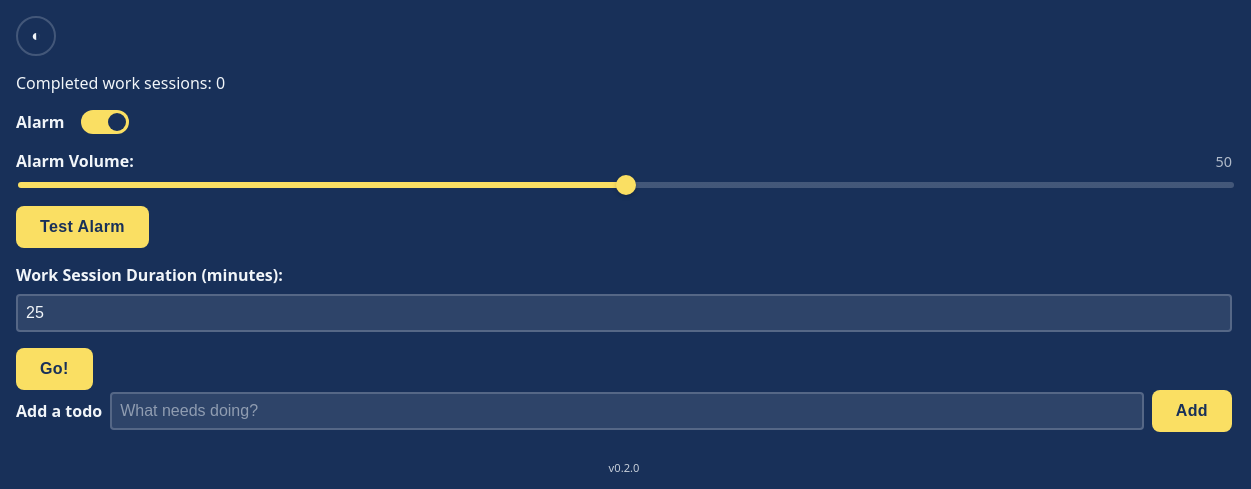
Test: App › pauses and resumes the countdown
Type "1" into the number field labelled "Work Session Duration (minutes):". click: (624,313)
box: [16,294,1232,332]
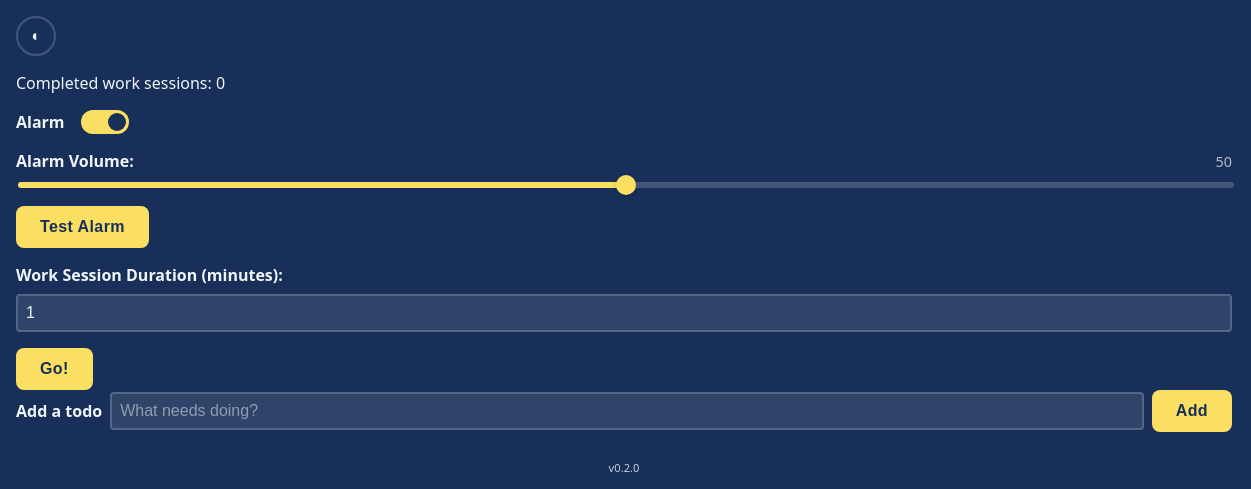
Click the button "Go!". click: (54,369)
box: [16,348,93,390]
Wait 10000 ms
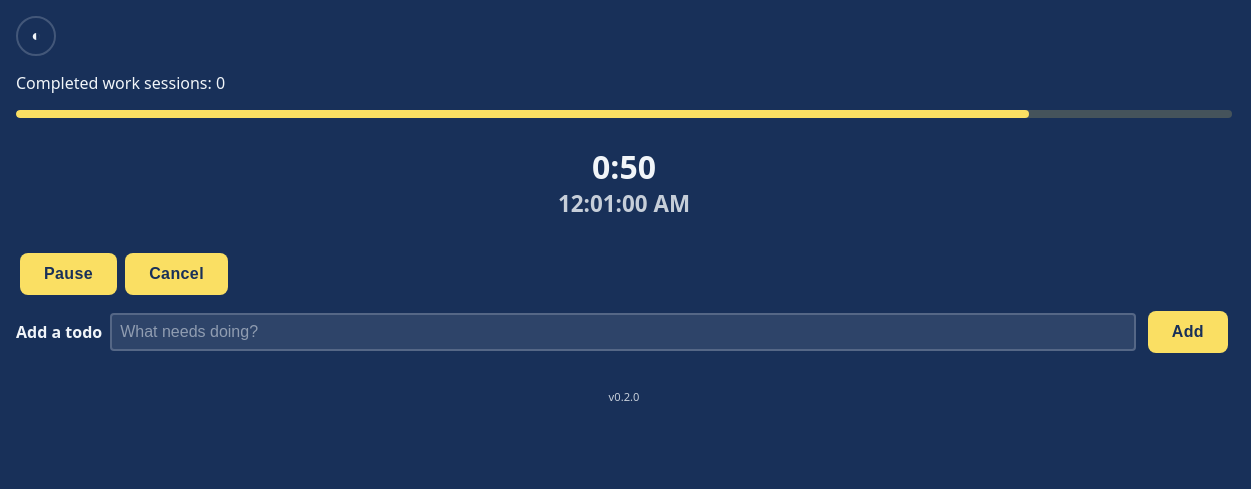
Click the button "Pause". click: (69,274)
box: [20,253,117,295]
Wait 30000 ms
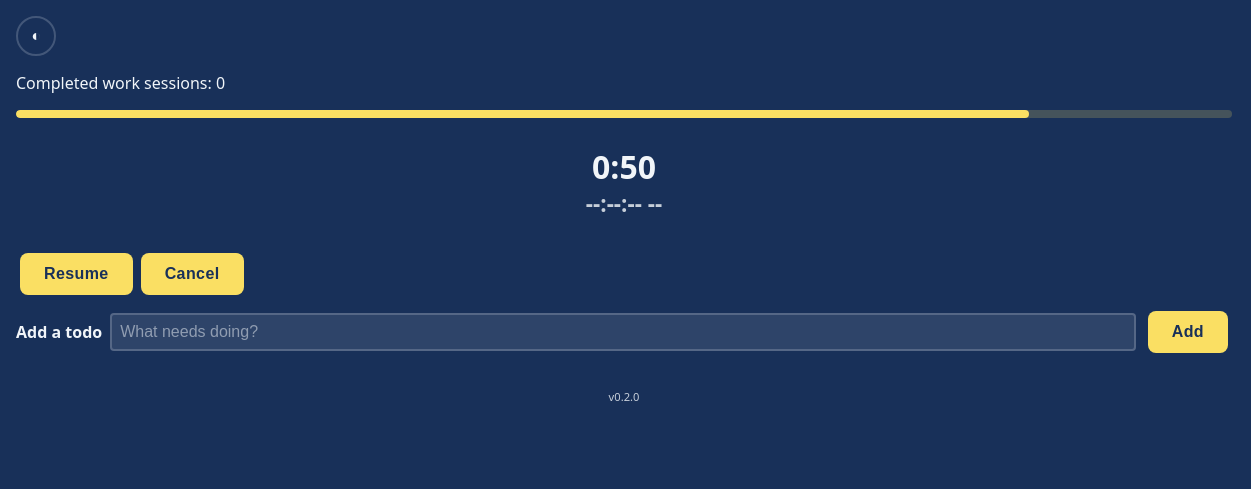
Expected: the heading "0:50 --:--:-- --" is shown, [586,144,662,218]
Click the button "Resume". click: (76,274)
box: [20,253,133,295]
Wait 10000 ms
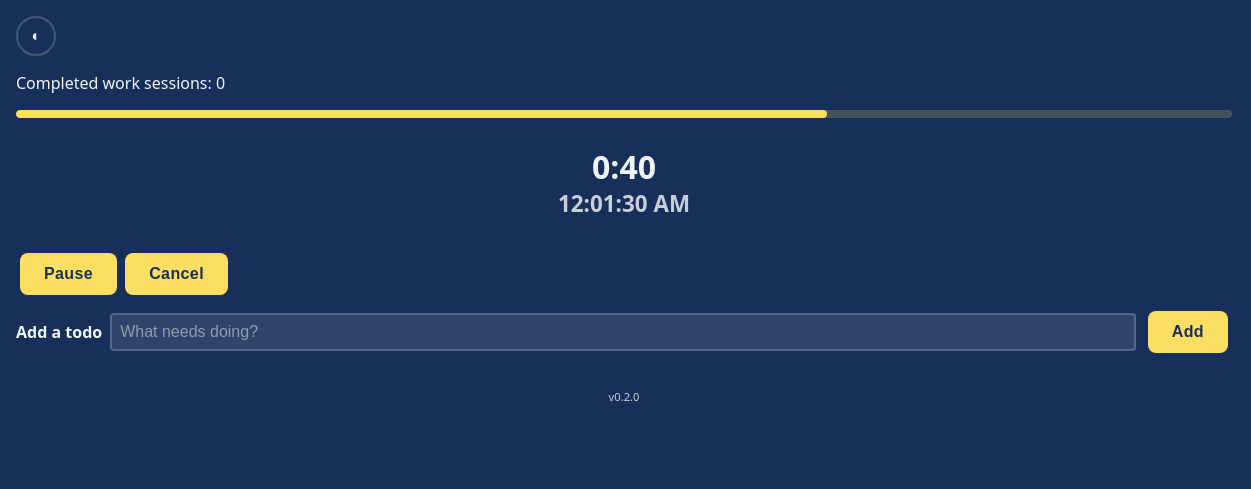
Expected: the heading "0:40 12:01:30 AM" is shown, [558,144,690,218]
